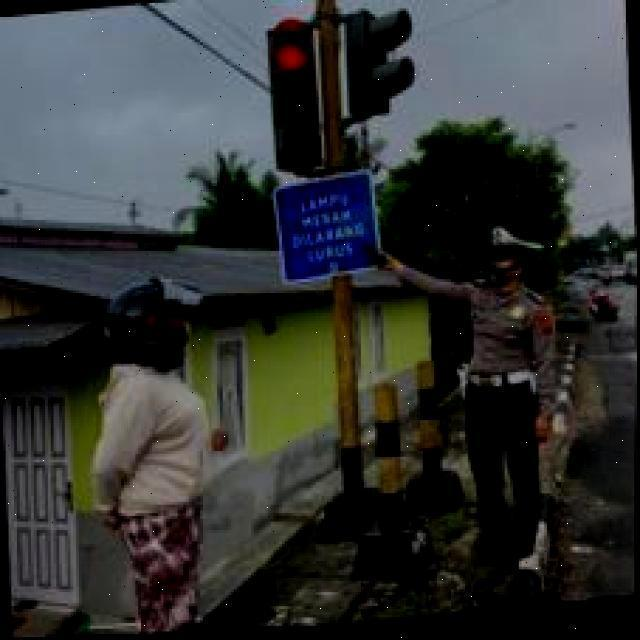red_light: (237, 0, 384, 204)
